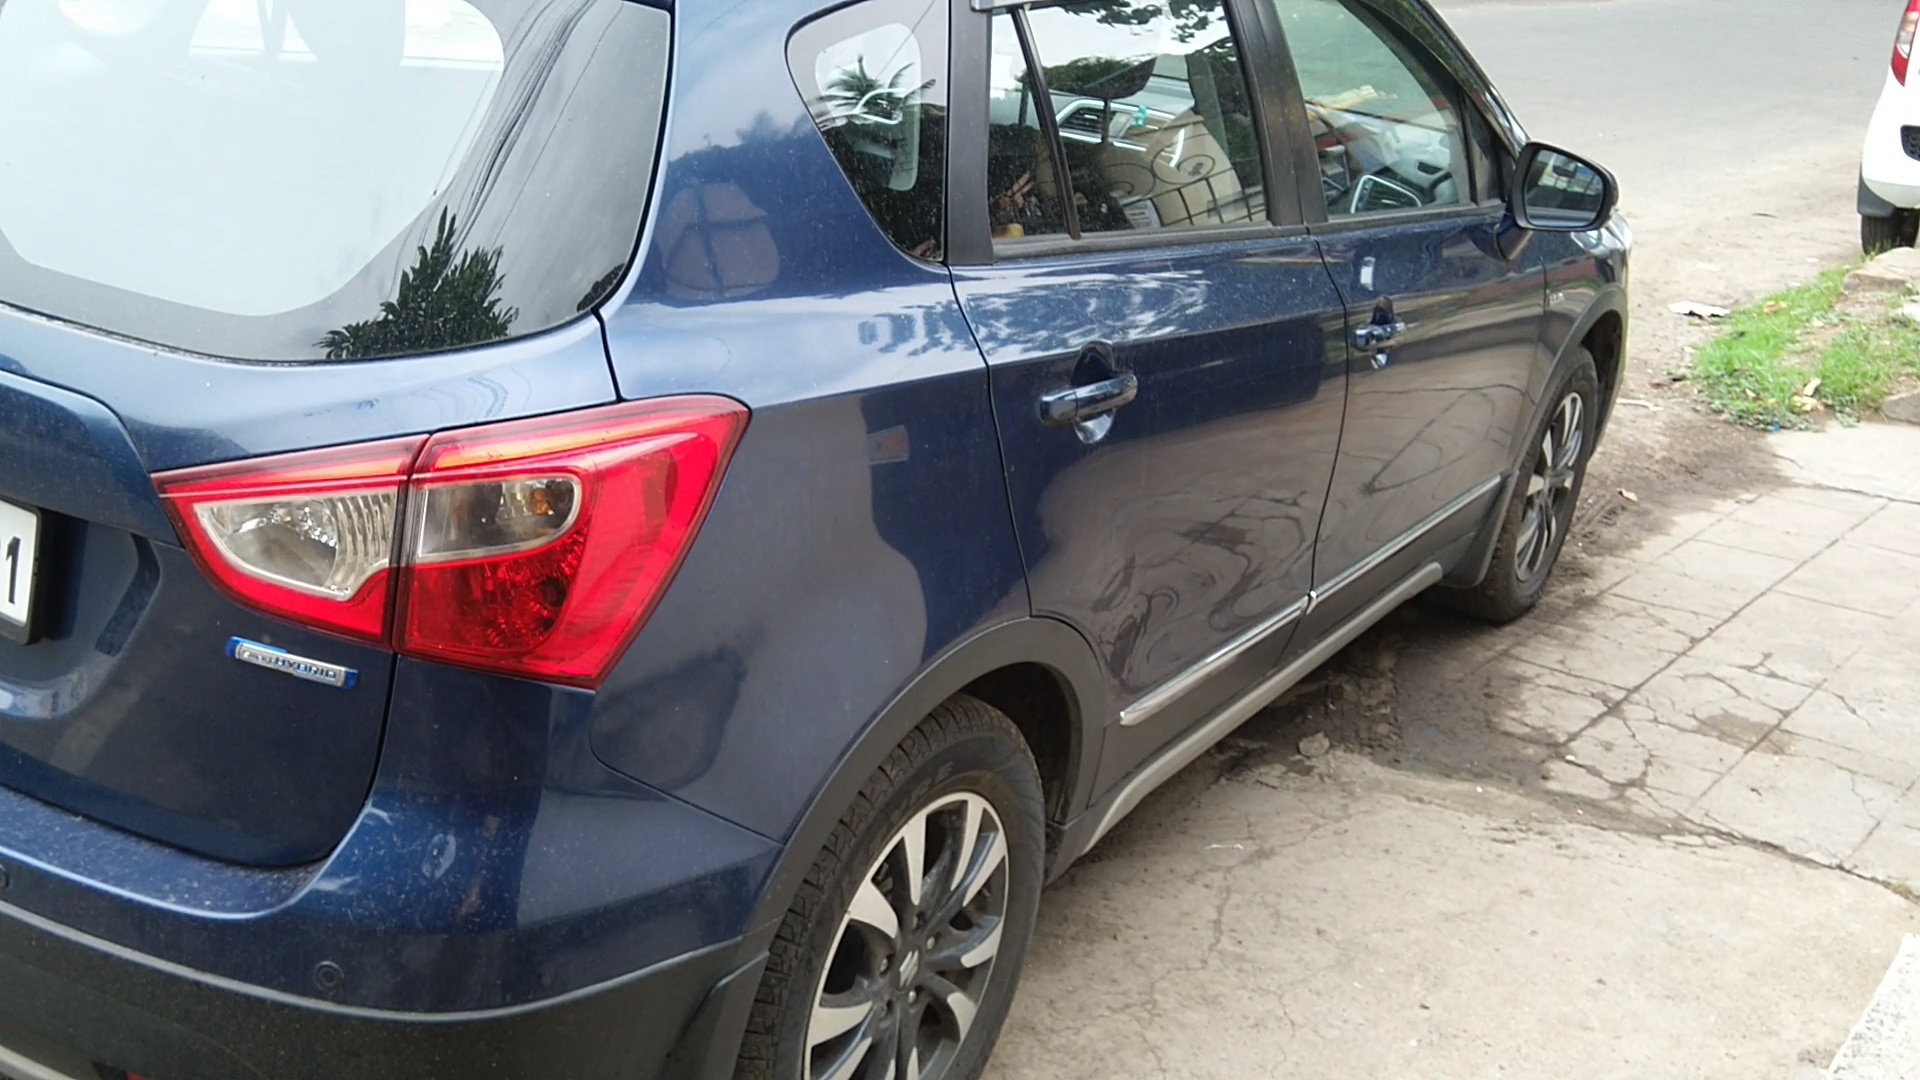alloy_wheel: (786, 709, 1054, 1080), (1486, 357, 1615, 612)
shvs: (208, 620, 367, 712)
